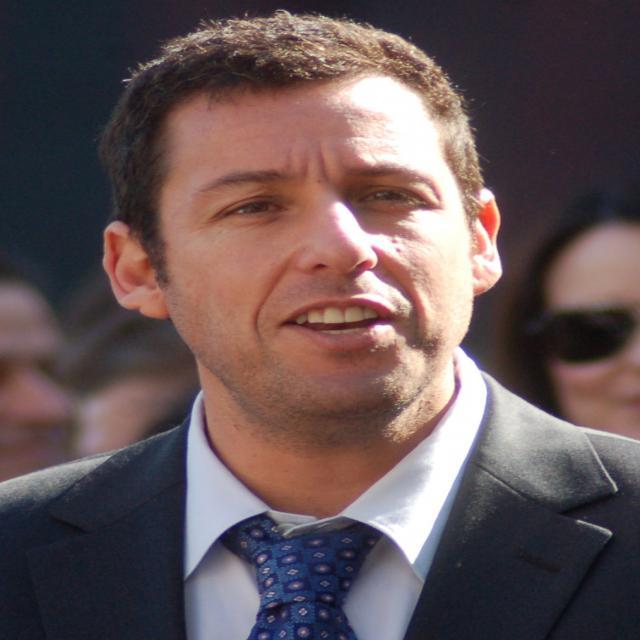Nonhelmet: (75, 0, 516, 442)
